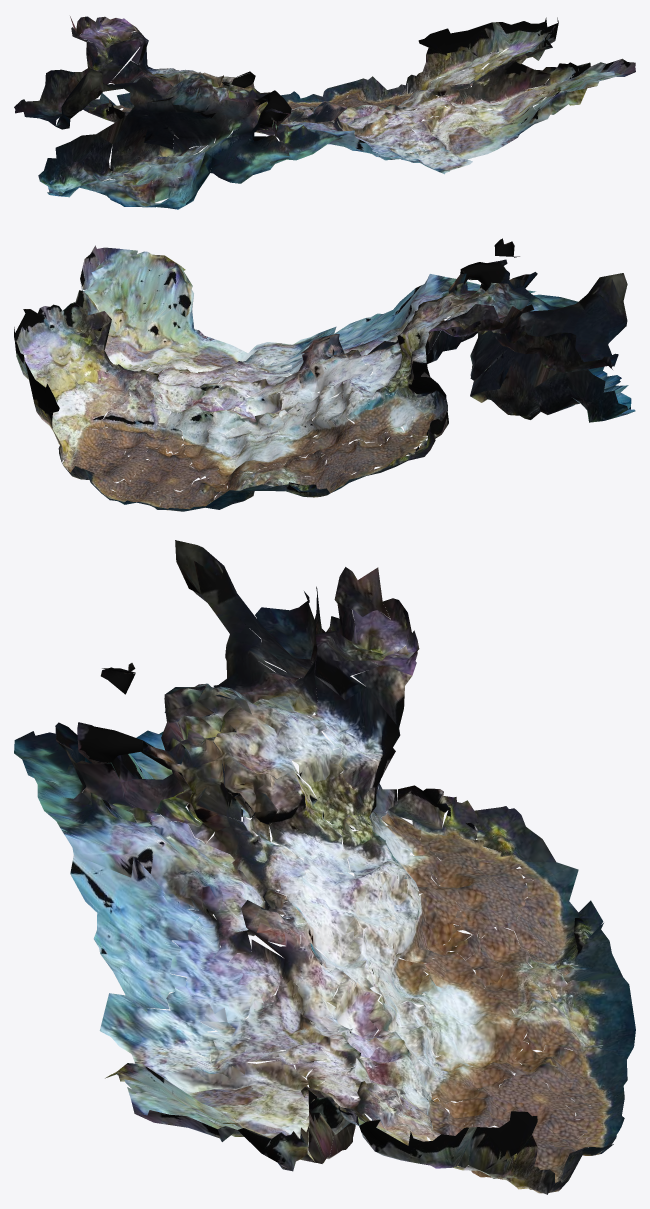
The model's file is coral-boulder-star.glb.
3 renders of one model, top to bottom at view 1: azimuth 30°, elevation 25°; view 2: azimuth 150°, elevation 25°; view 3: azimuth 270°, elevation 25°, orthographic. The views are drawn at different scales.
Visible parts, largest first — view 1: Model; view 2: Model; view 3: Model.
Boxes of the visible parts, x1,y1,x2,y2 form: Model: (14, 16, 635, 209); Model: (14, 238, 635, 511); Model: (14, 540, 635, 1194).
Size of the model in its own units: 1.8 by 0.6685 by 1.11.
1 material, 1 textured.
